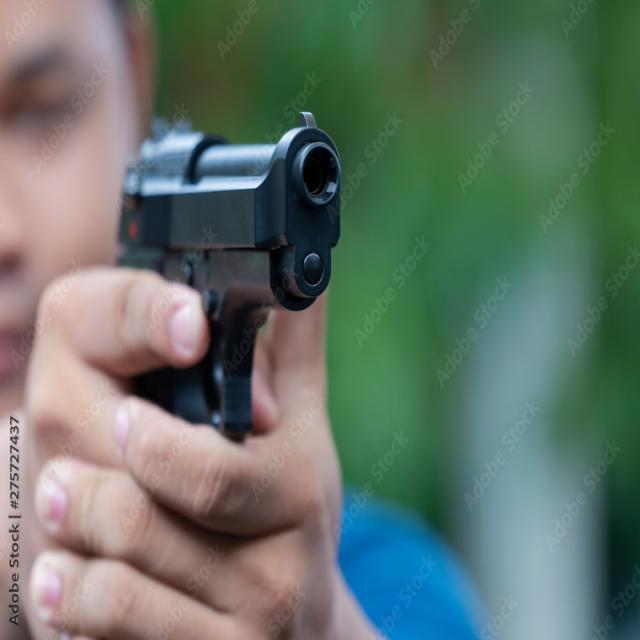HandGun: (115, 111, 342, 440)
